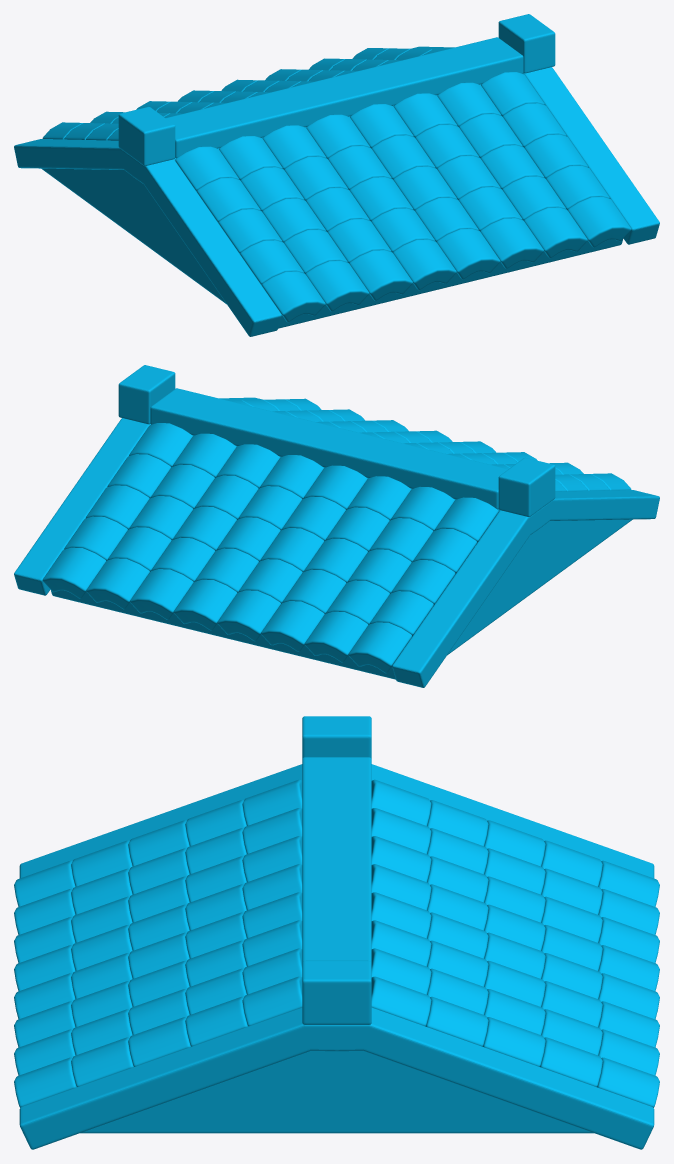
The model's file is SM_Brick_Roof_02.fbx.
The picture shows the model from 3 angles, top to bottom: view 1: azimuth 30°, elevation 25°; view 2: azimuth 150°, elevation 25°; view 3: azimuth 270°, elevation 25°; orthographic projection. The views are drawn at different scales.
Parts seen in each view (by area): view 1: SM_Brick_Roof_02; view 2: SM_Brick_Roof_02; view 3: SM_Brick_Roof_02.
Boxes of the visible parts, x1,y1,x2,y2 form: SM_Brick_Roof_02: (14,14,659,336); SM_Brick_Roof_02: (14,365,659,687); SM_Brick_Roof_02: (14,716,659,1149).
Size of the model in its own units: 5.03 by 1.56 by 5.19.
